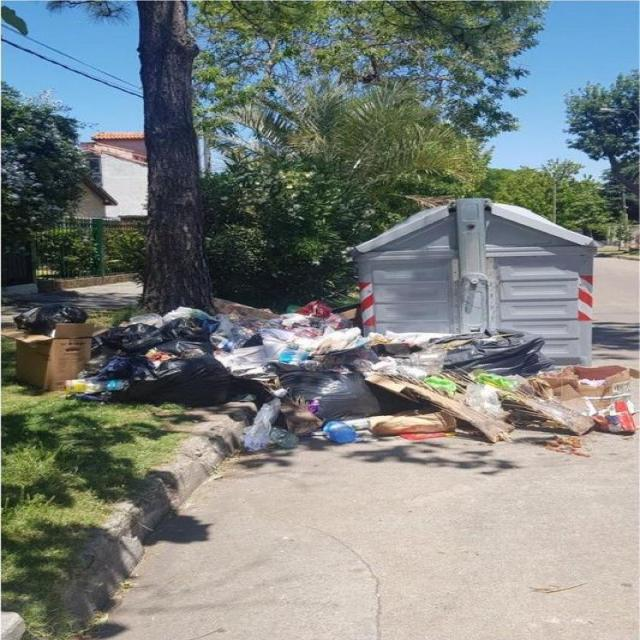garbage: (0, 294, 640, 464)
